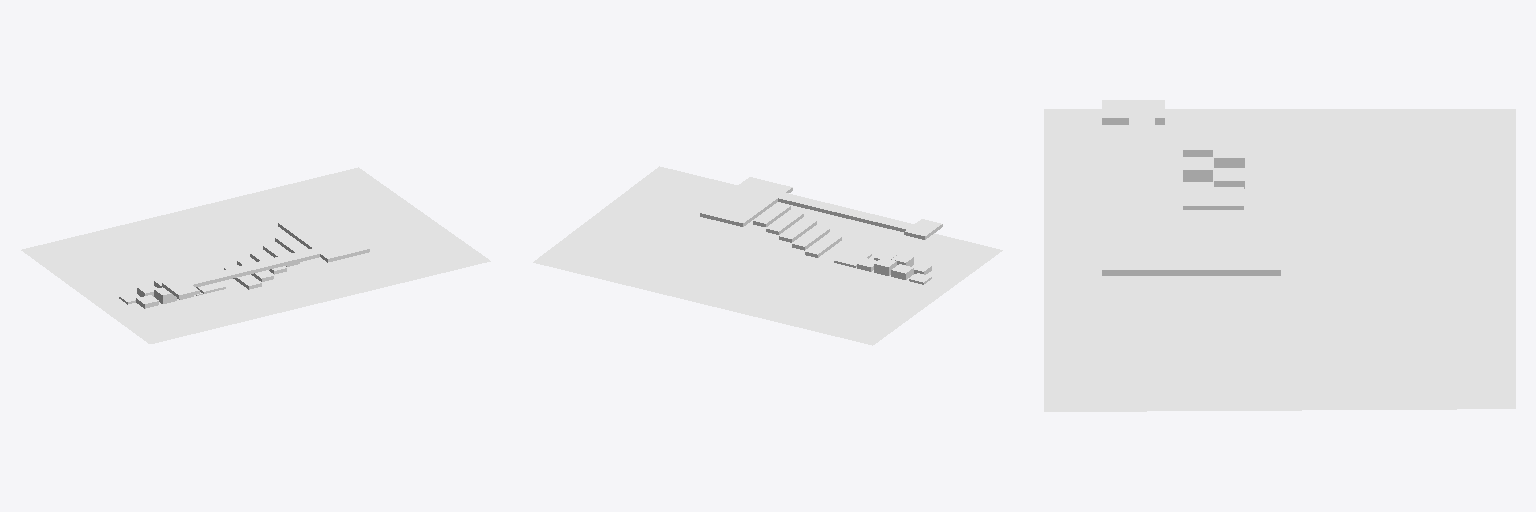
URDF robot description (stair_bauzil):
<robot name="stair_bauzil">
  <link name="base_link">
    <visual>
      <origin xyz="0 0 0" rpy="0 0 0" />
      <geometry>
        <mesh filename="package://hpp_environments/meshes/multicontact/bauzil_ramp_simplified.stl"/>
      </geometry>
      <material name="white">
        <color rgba="1 1 1 1"/>
      </material>
    </visual>
    <collision>
      <origin xyz="0 0 0" rpy="0 0 0" />
      <geometry>
        <mesh filename="package://hpp_environments/meshes/multicontact/bauzil_ramp_simplified.stl"/>
      </geometry>
    </collision>
  </link>
</robot>

--- Render facts (derived) ---
Views: 3 orthographic renders of the robot side by side, from view 1: azimuth 30°, elevation 25°; view 2: azimuth 150°, elevation 25°; view 3: azimuth 270°, elevation 25°.
Robot: stair_bauzil — 1 links, 0 joints (none); root link base_link; default pose: all joints at 0.
Links seen in each view (by area): view 1: base_link; view 2: base_link; view 3: base_link.
Boxes of the visible links, x1,y1,x2,y2 form: base_link: (21, 167, 490, 343); base_link: (533, 166, 1002, 345); base_link: (1044, 100, 1515, 411).
Bounding box of the posed robot: 8 × 5.25 × 0.65 m (x, y, z).
Meshes: 1 distinct files referenced, 1 mesh visuals loaded (1 binary STL).
